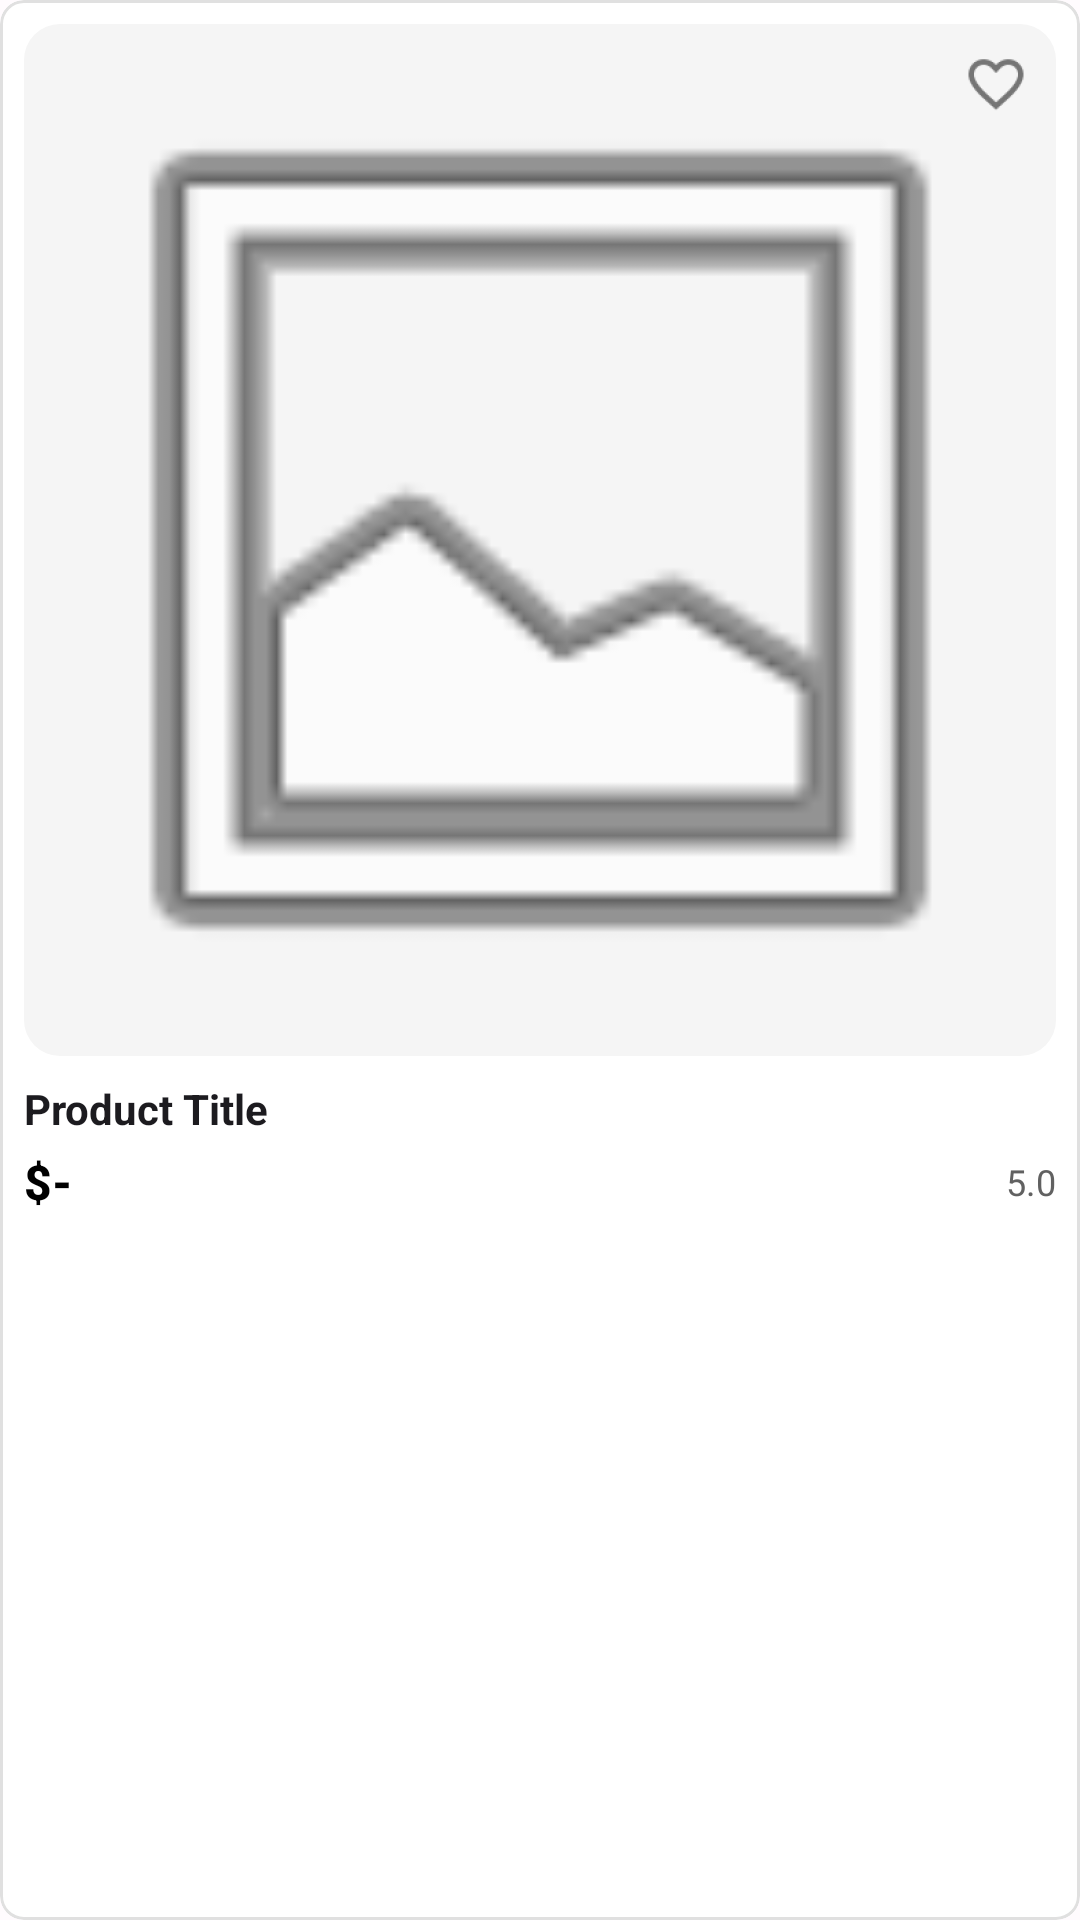

Where to tap for icons on this 1080px×1920px app screen, as [x,y]:
Favorite: [996,84]
